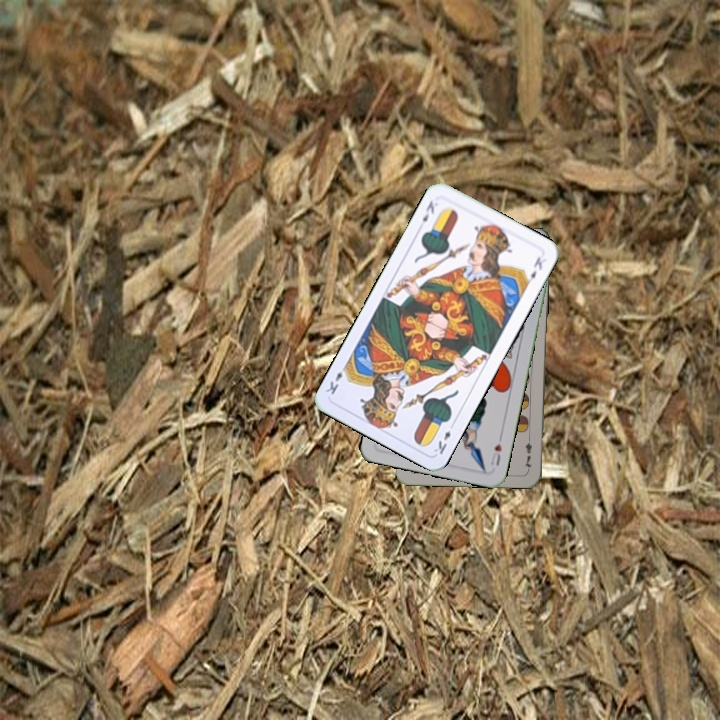E7: (520, 431, 534, 472)
EK: (430, 418, 457, 457), (418, 196, 437, 225)
HU: (486, 432, 505, 468)
